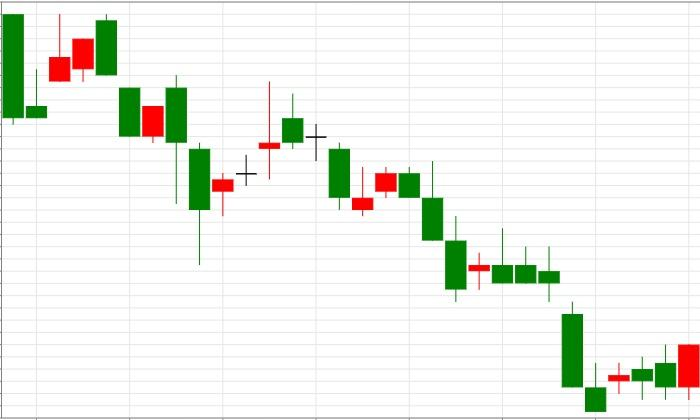three_black_crows_fall: (351, 160, 466, 302)
